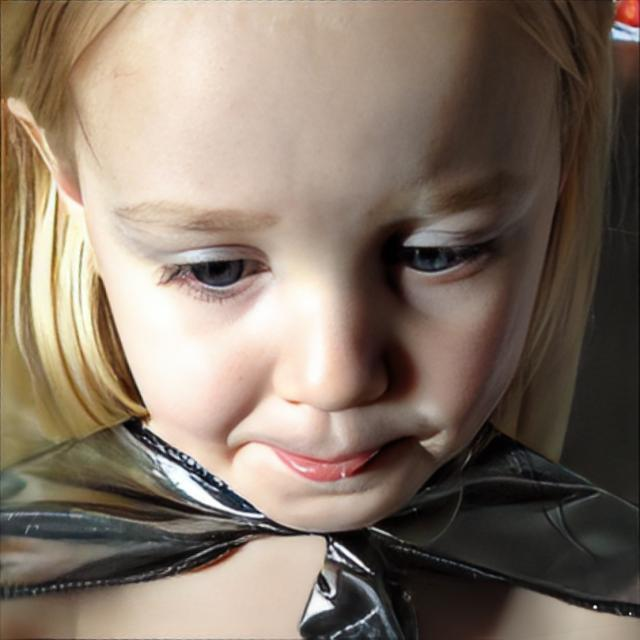sad: (76, 0, 564, 534)
